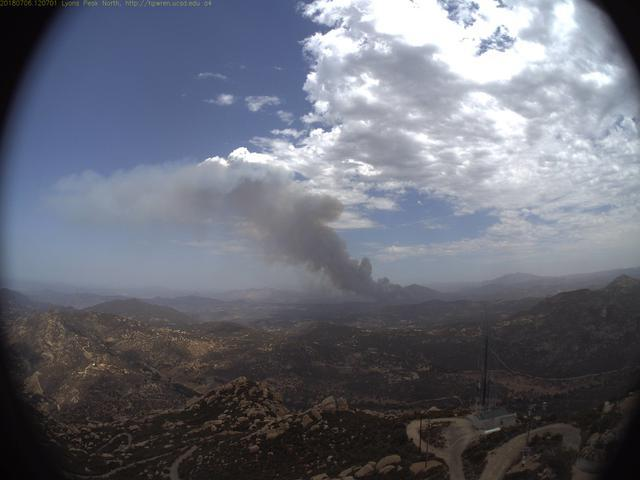smoke: (52, 161, 442, 310)
